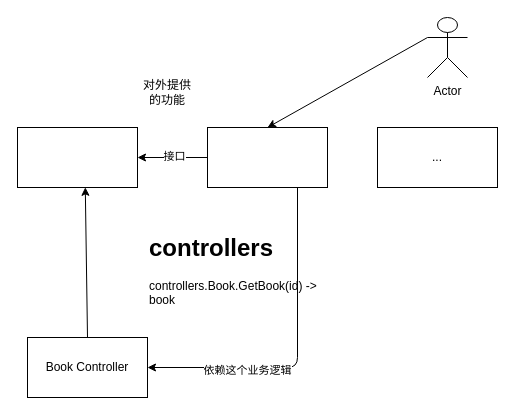
Image size: 515x415. Some labels were removed from this diagram. The shapes that lost their labels are listed below. From the top down, each one's centre as x and y in pixels, then its label:
At (77,157): "book handlers".
At (267,157): "comment handlers".
